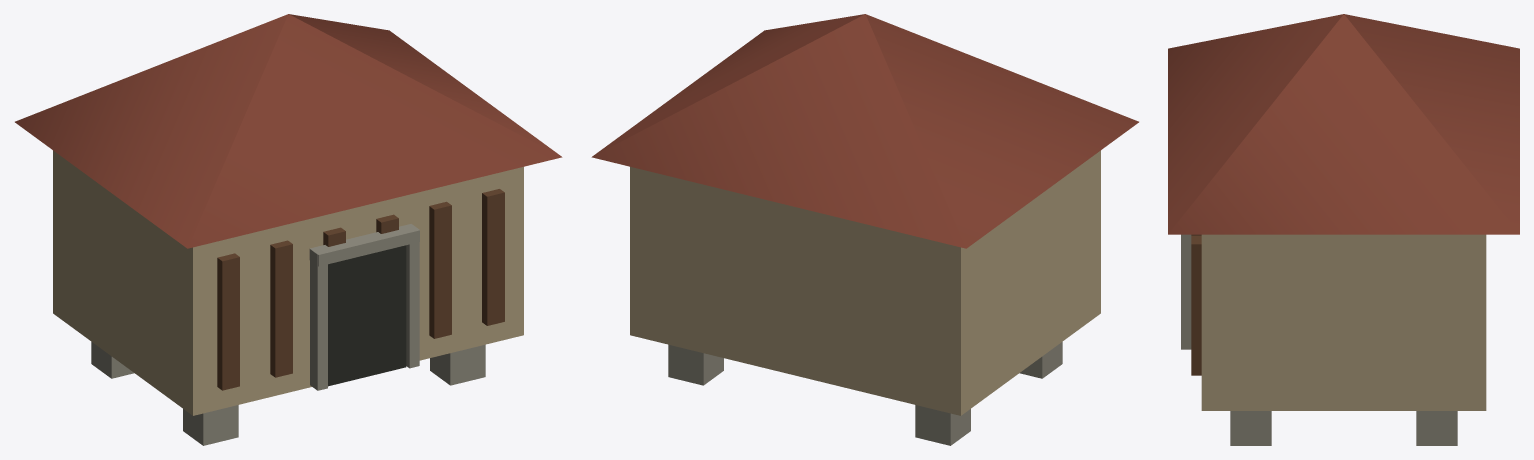
Rendered from custom-cb-granary.glb.
3 views of the same model, side by side, from view 1: azimuth 30°, elevation 25°; view 2: azimuth 150°, elevation 25°; view 3: azimuth 270°, elevation 25° (orthographic).
Visible parts, largest first — view 1: custom-cb-granary; view 2: custom-cb-granary; view 3: custom-cb-granary.
Part boxes in pixels (x1=…): custom-cb-granary: x1=15, y1=14, x2=562, y2=445; custom-cb-granary: x1=591, y1=14, x2=1138, y2=445; custom-cb-granary: x1=1168, y1=14, x2=1519, y2=445.
Size of the model in its own units: 1 by 0.9081 by 0.8.
